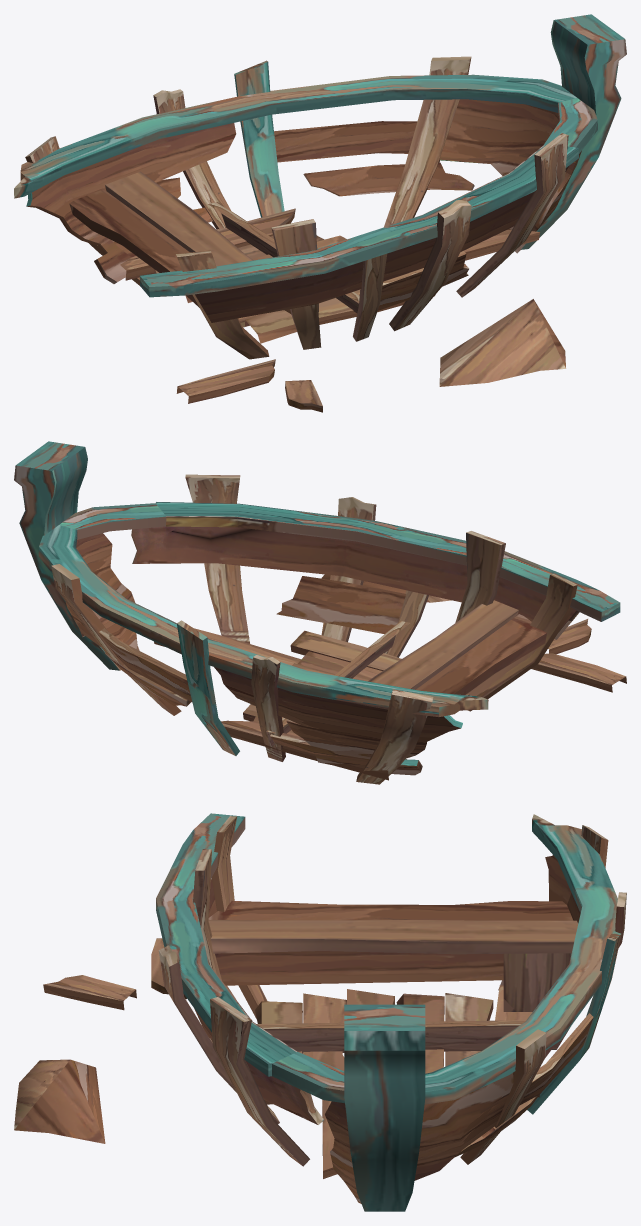
Rendered from map_1002_wj_19.FBX.
3 views of the same model, one above another, from view 1: azimuth 30°, elevation 25°; view 2: azimuth 150°, elevation 25°; view 3: azimuth 270°, elevation 25° (orthographic). The views are drawn at different scales.
Parts seen in each view (by area): view 1: map_1002_wj_19; view 2: map_1002_wj_19; view 3: map_1002_wj_19.
Part boxes in pixels (<box>): map_1002_wj_19: <box>14,14,626,412</box>; map_1002_wj_19: <box>14,441,626,784</box>; map_1002_wj_19: <box>14,813,626,1211</box>.
Bounding box in the file's own units: 3.58 × 1.33 × 2.99.
